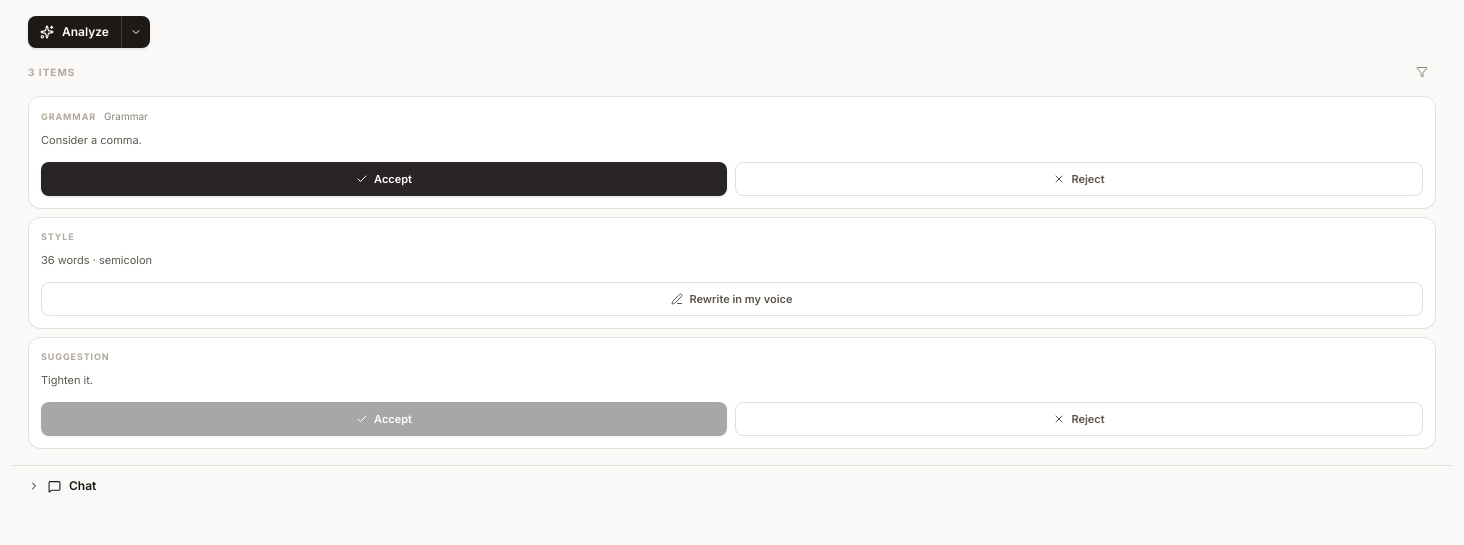
Scenario: ReviewPanel › keeps chat present but collapsed
This screenshot has width=1464, height=545.
Click the button with test id "section-chat": (34, 486) 12,466 -> 1452,506
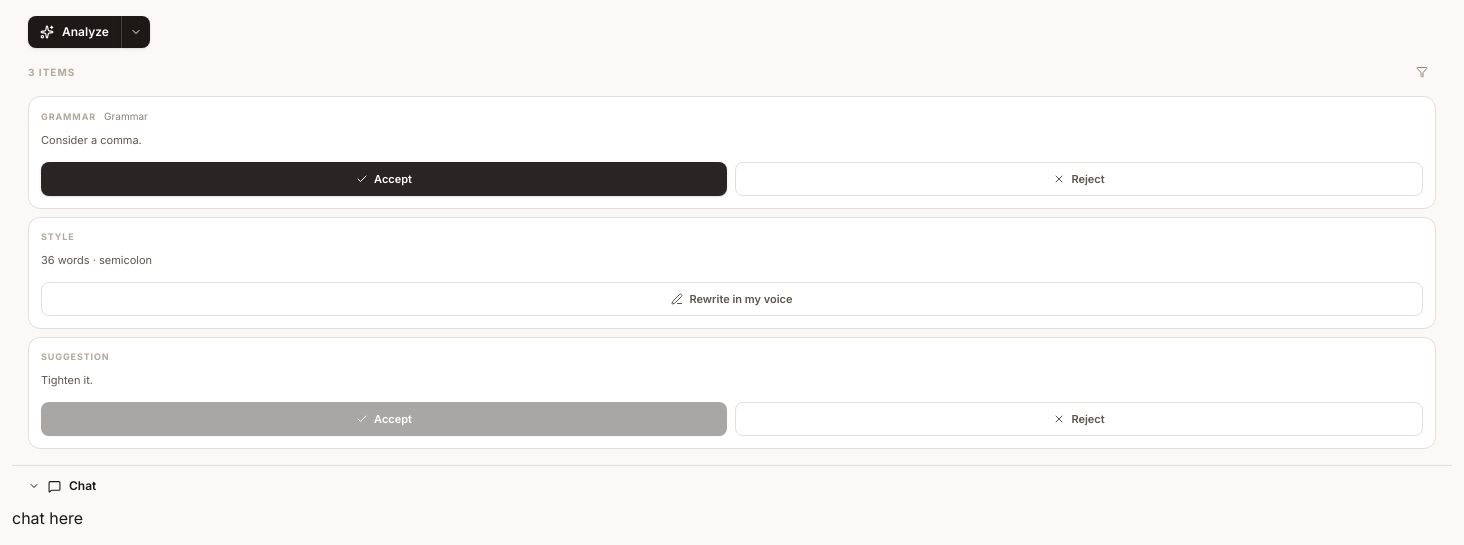
Now the text "chat here" is shown, box 12,508 -> 83,528
